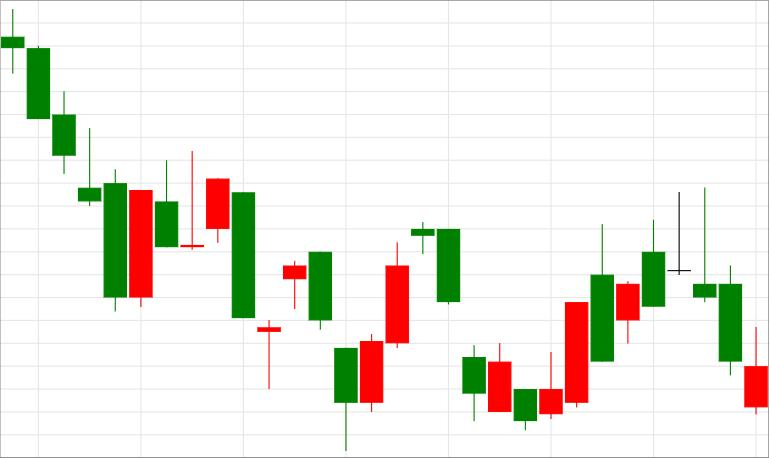inverse_hammer_rise: (412, 222, 563, 431)
